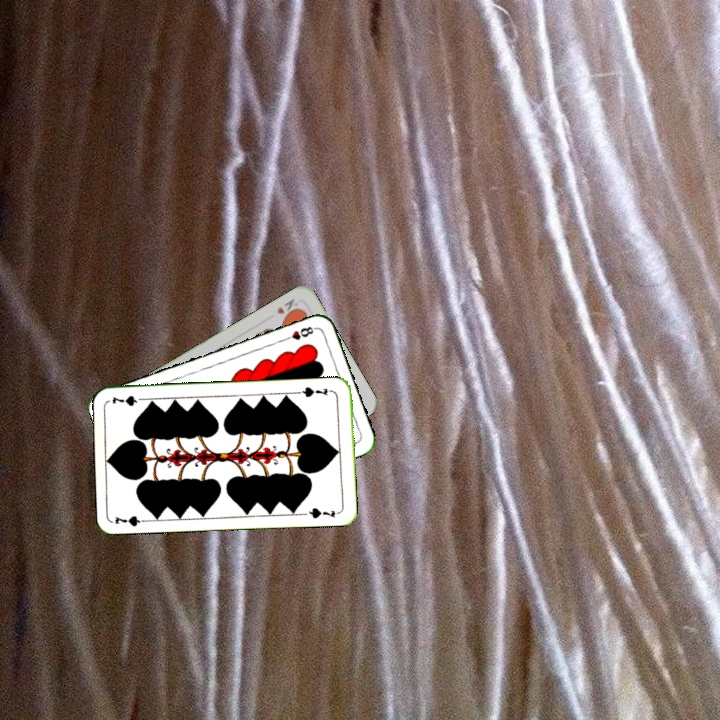G7: (112, 511, 152, 529), (296, 383, 336, 400)
H8: (279, 322, 318, 344)
HK: (272, 295, 302, 320)
